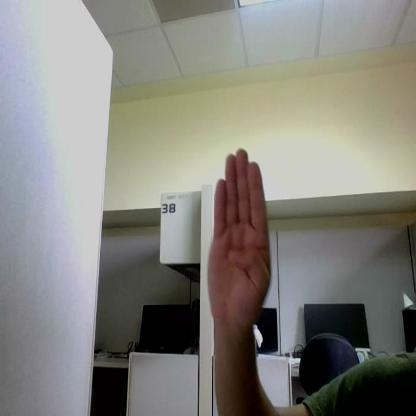B: (207, 148, 270, 319)
